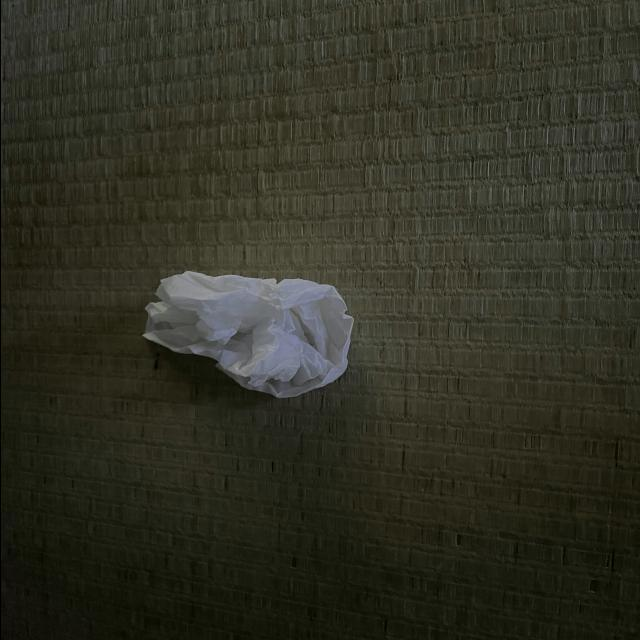Paper: (119, 262, 400, 410)
